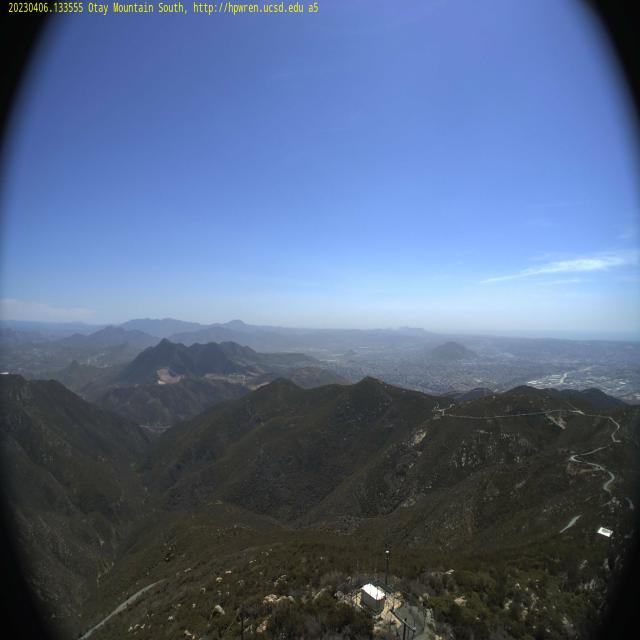smoke: (464, 339, 518, 357)
